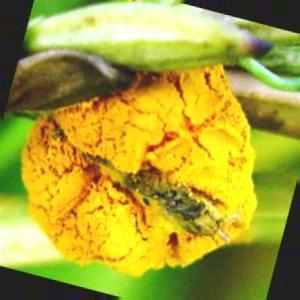Leaf_Scald: (88, 64, 244, 261), (31, 114, 94, 251)
